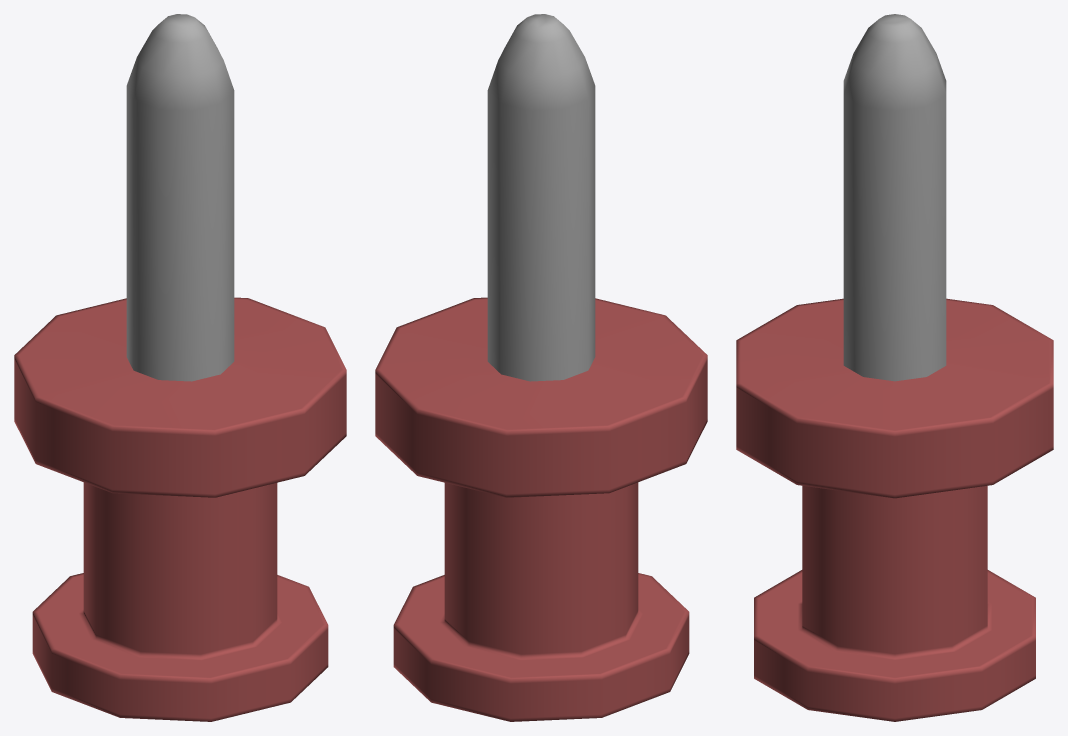
File: thumb pin.fbx
The picture shows the model from 3 angles, left to right: view 1: azimuth 30°, elevation 25°; view 2: azimuth 150°, elevation 25°; view 3: azimuth 270°, elevation 25°; orthographic projection.
Parts seen in each view (by area): view 1: push_pin; view 2: push_pin; view 3: push_pin.
Boxes of the visible parts, <box> form: push_pin: <box>14,14,346,721</box>; push_pin: <box>375,14,707,721</box>; push_pin: <box>736,14,1053,721</box>.
Bounding box in the file's own units: 0.0176 × 0.0379 × 0.0167.
